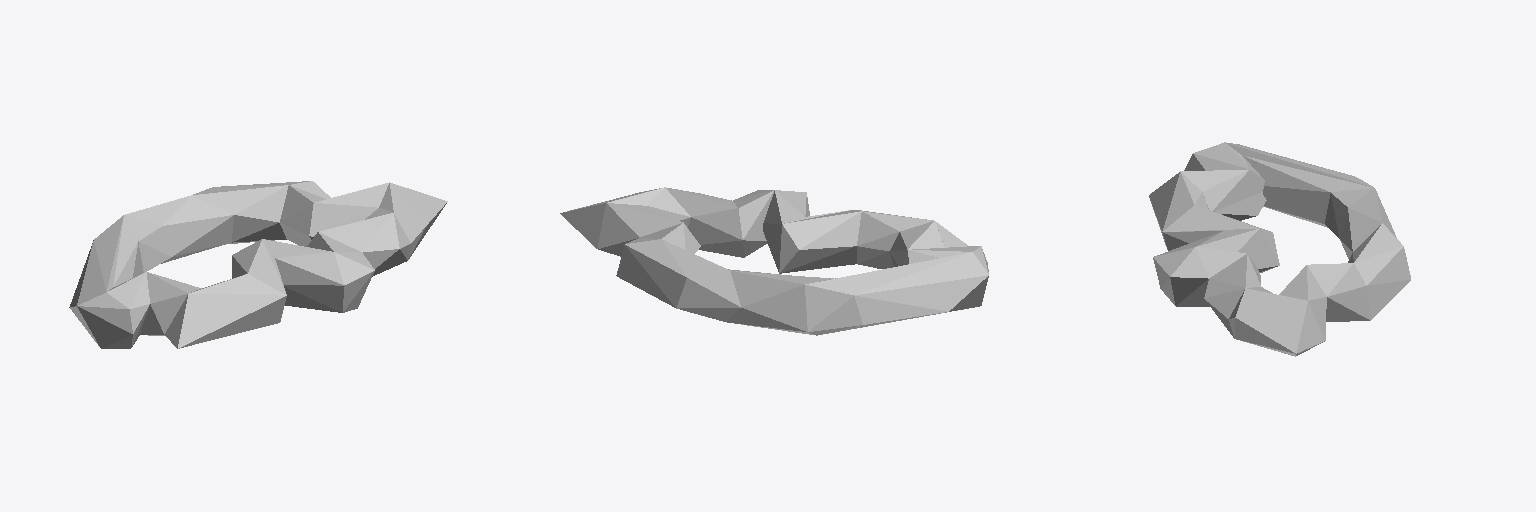
The model's file is CH_outline.obj.
3 views of the same model, side by side, from view 1: azimuth 30°, elevation 25°; view 2: azimuth 150°, elevation 25°; view 3: azimuth 270°, elevation 25° (orthographic).
Parts seen in each view (by area): view 1: CH.001_CUCurve.1628; view 2: CH.001_CUCurve.1628; view 3: CH.001_CUCurve.1628.
Part boxes in pixels (x1,y1,x2,y2): CH.001_CUCurve.1628: (69,181,447,348); CH.001_CUCurve.1628: (560,187,988,335); CH.001_CUCurve.1628: (1149,142,1410,356).
Size of the model in its own units: 0.0311 by 0.0041 by 0.0177.